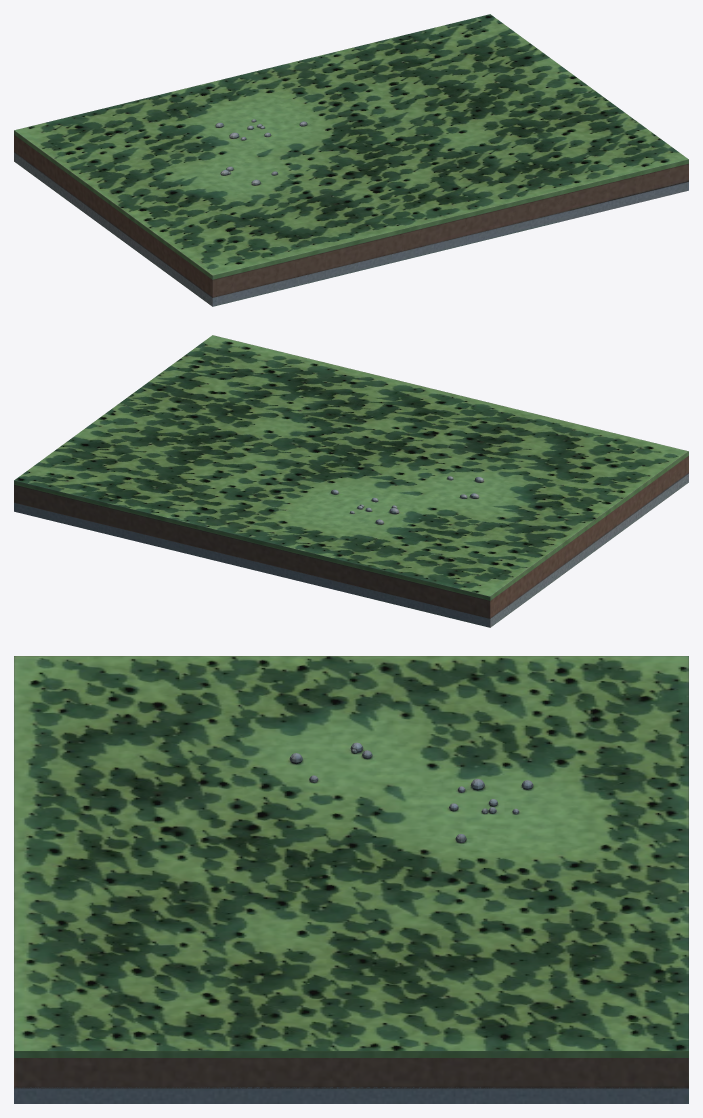
File: wild.glb
The picture shows the model from 3 angles, top to bottom: view 1: azimuth 30°, elevation 25°; view 2: azimuth 150°, elevation 25°; view 3: azimuth 270°, elevation 25°; orthographic projection. The views are drawn at different scales.
Visible parts, largest first — view 1: wild; view 2: wild; view 3: wild.
Boxes of the visible parts, x1,y1,x2,y2 form: wild: (14,14,688,306); wild: (14,335,688,627); wild: (14,656,688,1103).
Size of the model in its own units: 72 by 5.1 by 52.
1 material, 1 textured.
